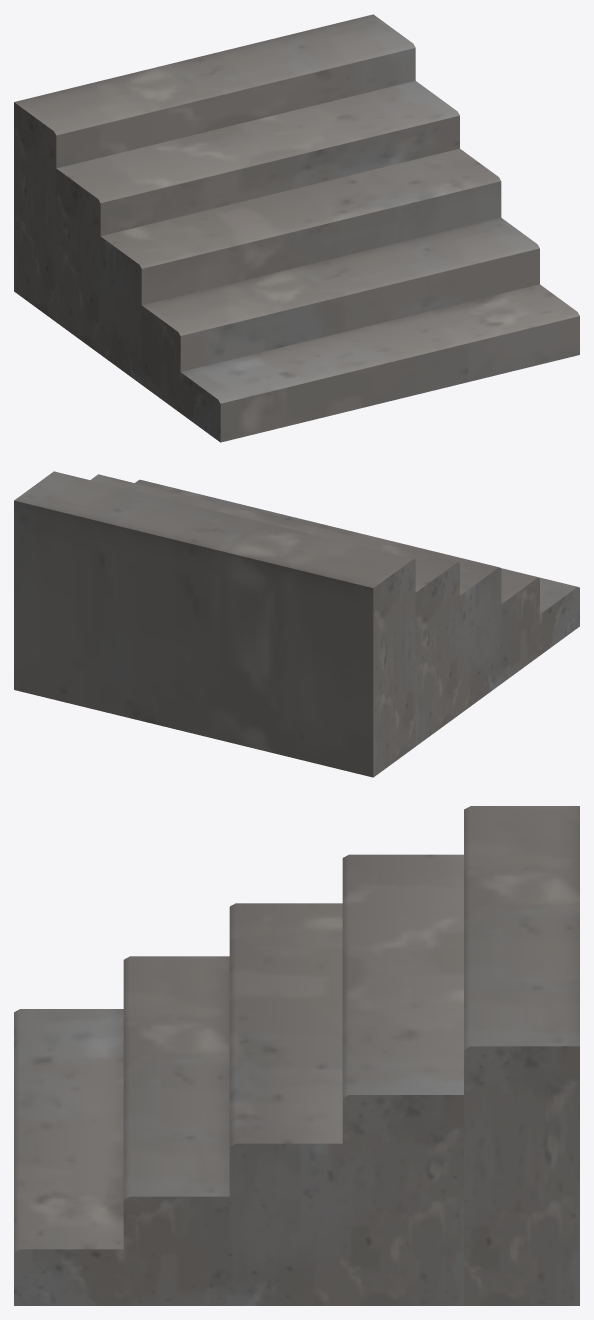
The model's file is stairs_entrance_concrete.glb.
The picture shows the model from 3 angles, top to bottom: view 1: azimuth 30°, elevation 25°; view 2: azimuth 150°, elevation 25°; view 3: azimuth 270°, elevation 25°; orthographic projection. The views are drawn at different scales.
Parts seen in each view (by area): view 1: Stairs_Entrance_Concrete; view 2: Stairs_Entrance_Concrete; view 3: Stairs_Entrance_Concrete.
Boxes of the visible parts, box(x1,y1,x2,y2) form: Stairs_Entrance_Concrete: box(14, 14, 579, 442); Stairs_Entrance_Concrete: box(14, 471, 579, 777); Stairs_Entrance_Concrete: box(14, 806, 579, 1305).
Size of the model in its own units: 2 by 1.01 by 1.99.
Materials: 2 (2 with a texture image).
